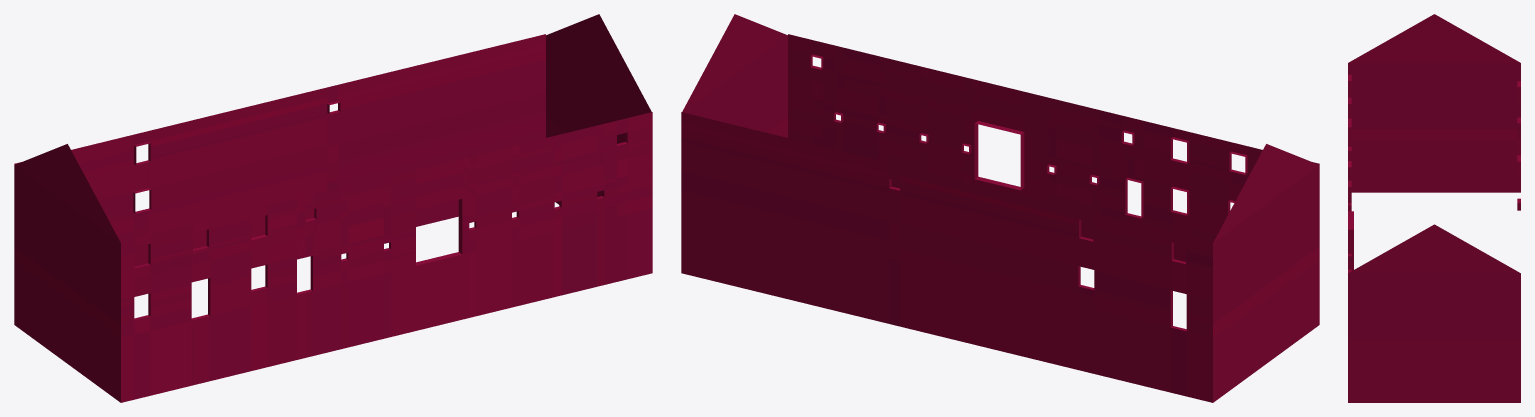
Rendered from SM_Bld_130_Masonry.glb.
The picture shows the model from 3 angles, left to right: view 1: azimuth 30°, elevation 25°; view 2: azimuth 150°, elevation 25°; view 3: azimuth 270°, elevation 25°; orthographic projection. The views are drawn at different scales.
Parts seen in each view (by area): view 1: SM_Bld_130_Masonry; view 2: SM_Bld_130_Masonry; view 3: SM_Bld_130_Masonry.
Part boxes in pixels (left/top/right/bottom): SM_Bld_130_Masonry: left=14, top=14, right=652, bottom=402; SM_Bld_130_Masonry: left=681, top=14, right=1319, bottom=402; SM_Bld_130_Masonry: left=1348, top=14, right=1520, bottom=402.
Bounding box in the file's own units: 29.91 × 11.84 × 10.38.
